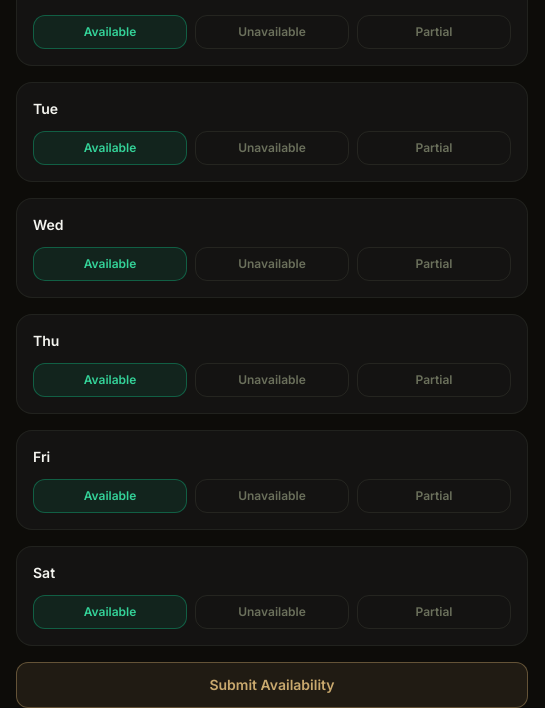
ConstraintsForm — linked employee › submits availability and shows success
(page scrolled)
Click the button "Submit Availability" at (272, 685), box left=16, top=662, right=528, bottom=707
(page scrolled)
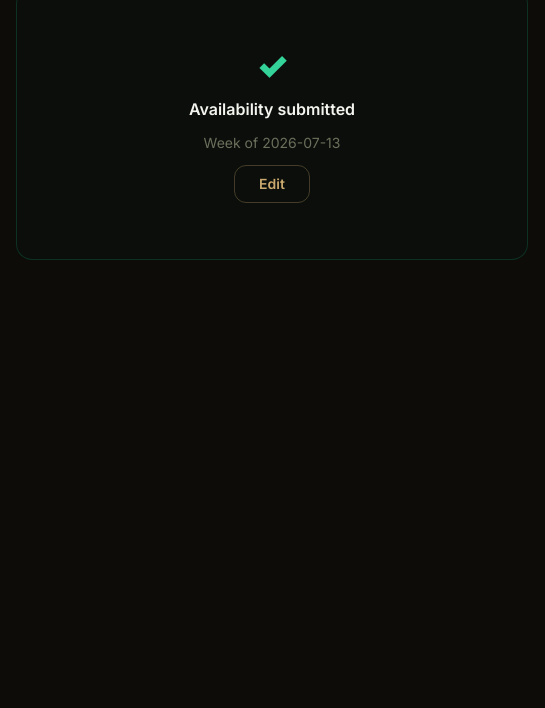
Expected: the text "Availability submitted" is shown, left=189, top=99, right=355, bottom=119
